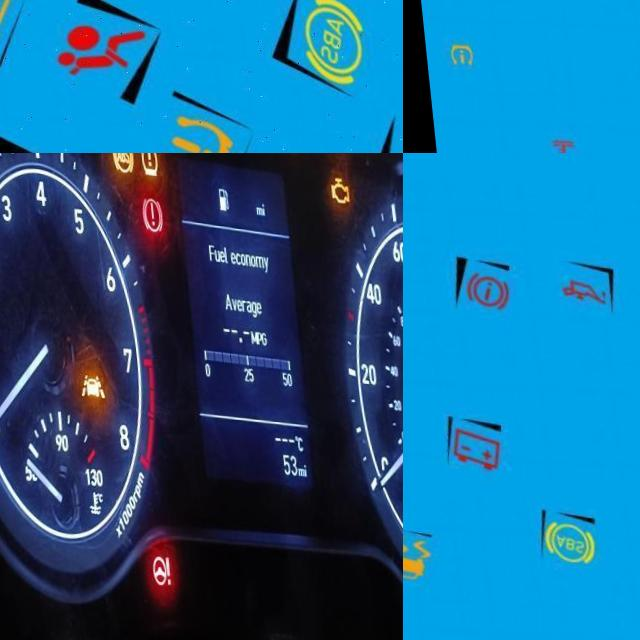Electronic Power Steering: (136, 546, 166, 592)
